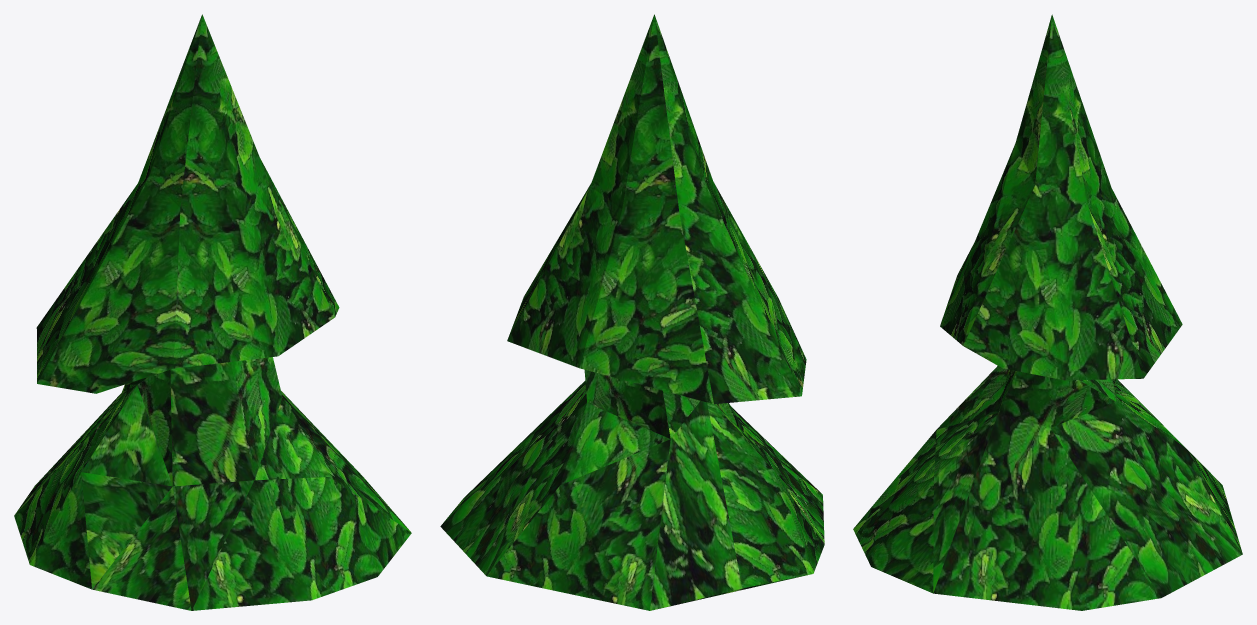
File: tree3.glb
The picture shows the model from 3 angles, left to right: view 1: azimuth 30°, elevation 25°; view 2: azimuth 150°, elevation 25°; view 3: azimuth 270°, elevation 25°; orthographic projection.
Visible parts, largest first — view 1: geometry_0.012; view 2: geometry_0.012; view 3: geometry_0.012.
Boxes of the visible parts, x1,y1,x2,y2 form: geometry_0.012: (14,14,411,610); geometry_0.012: (440,14,824,610); geometry_0.012: (853,14,1242,610).
Size of the model in its own units: 0.6336 by 0.9203 by 0.6316.
1 material, 1 textured.
